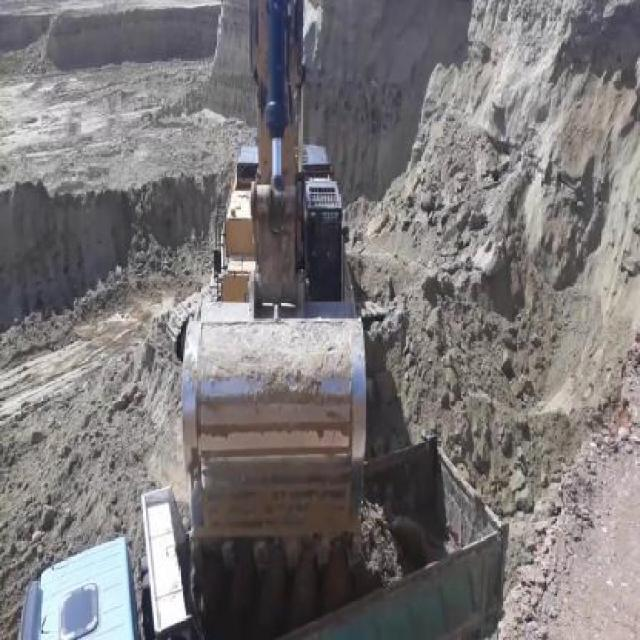Dump Truck: (12, 432, 511, 638)
Excavator: (178, 0, 404, 531)
